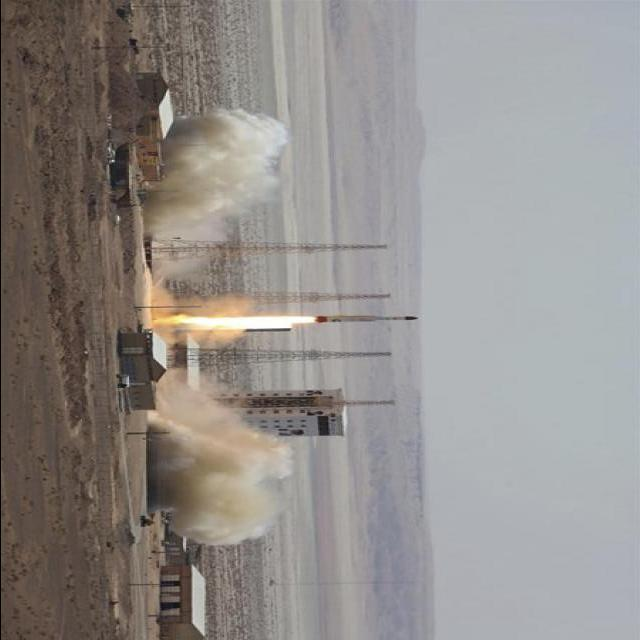Missile: (307, 312, 433, 326)
